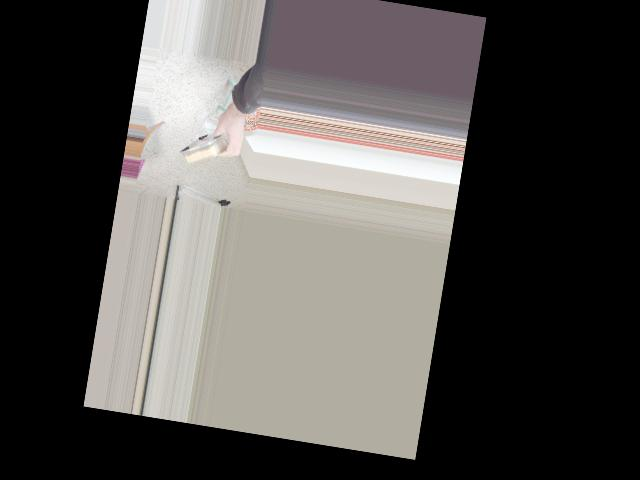cheese: (174, 115, 253, 182)
